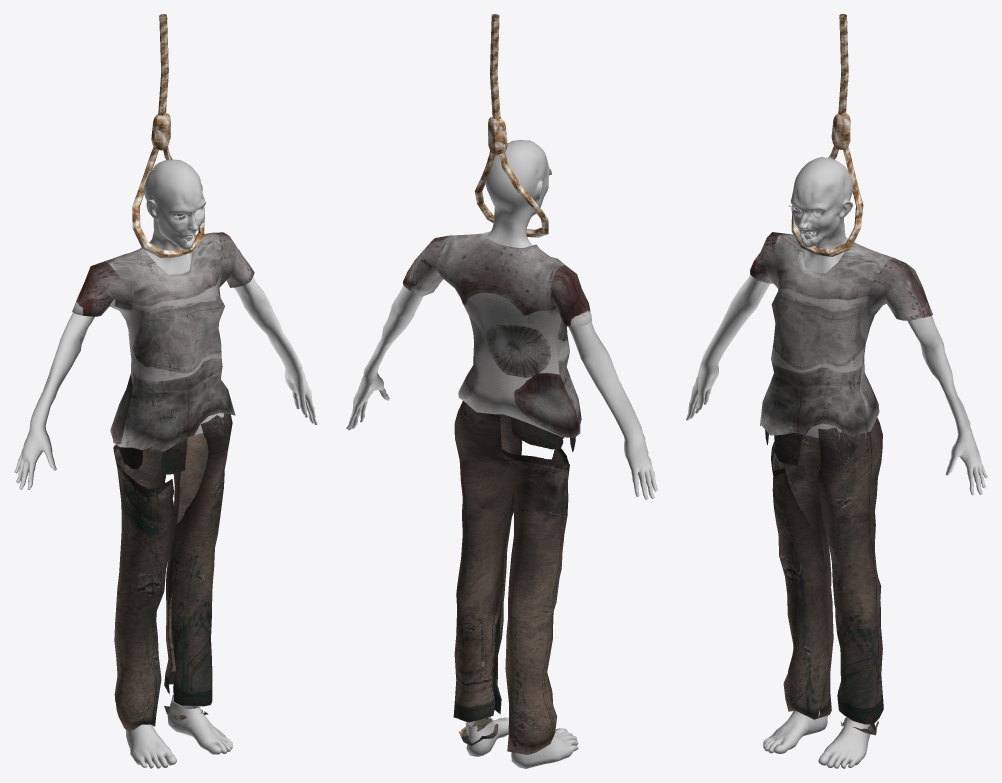
File: zombie.obj
3 views of the same model, side by side, from view 1: azimuth 30°, elevation 25°; view 2: azimuth 150°, elevation 25°; view 3: azimuth 330°, elevation 25° (orthographic). The views are drawn at different scales.
Visible parts, largest first — view 1: Body, Bottoms, cuerda; view 2: Body, Bottoms, cuerda; view 3: Body, Bottoms, cuerda.
Part boxes in pixels (x1,y1,x2,y2): Body: [14, 159, 317, 768]; Bottoms: [113, 413, 232, 730]; cuerda: [132, 14, 204, 257]; Body: [346, 139, 657, 768]; Bottoms: [453, 401, 575, 754]; cuerda: [474, 14, 548, 237]; Body: [686, 157, 987, 768]; Bottoms: [765, 417, 883, 735]; cuerda: [791, 14, 863, 256].
Size of the model in its own units: 27.99 by 65.77 by 8.12.
